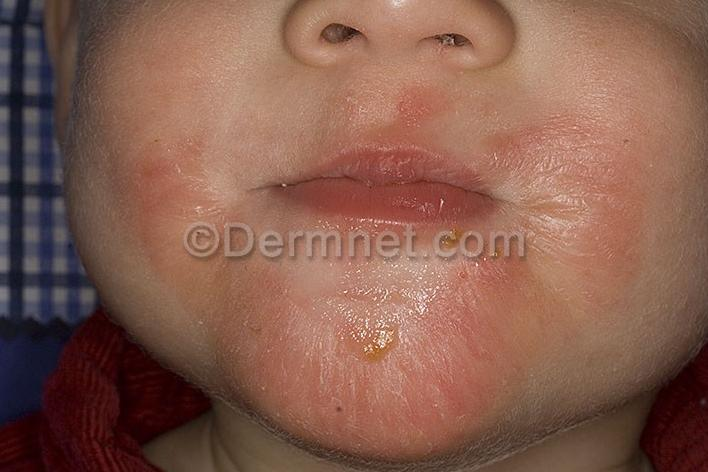eritema 1: (124, 120, 650, 457)
exudacion 1: (434, 226, 504, 262), (346, 324, 399, 363)
xerosis 1: (248, 141, 589, 413)
